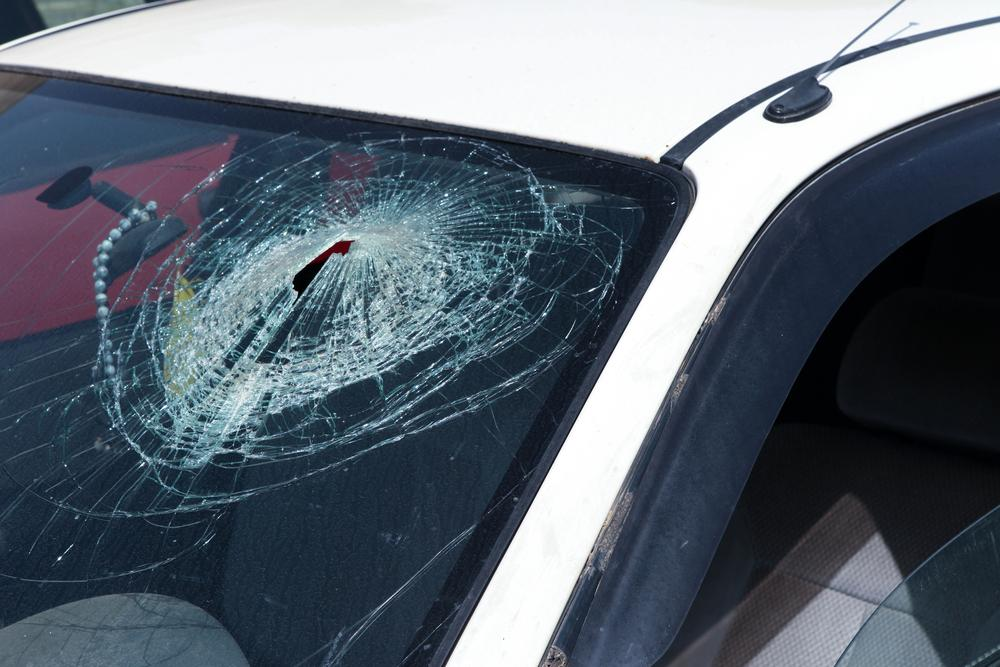glass shatter: (0, 69, 680, 667)
